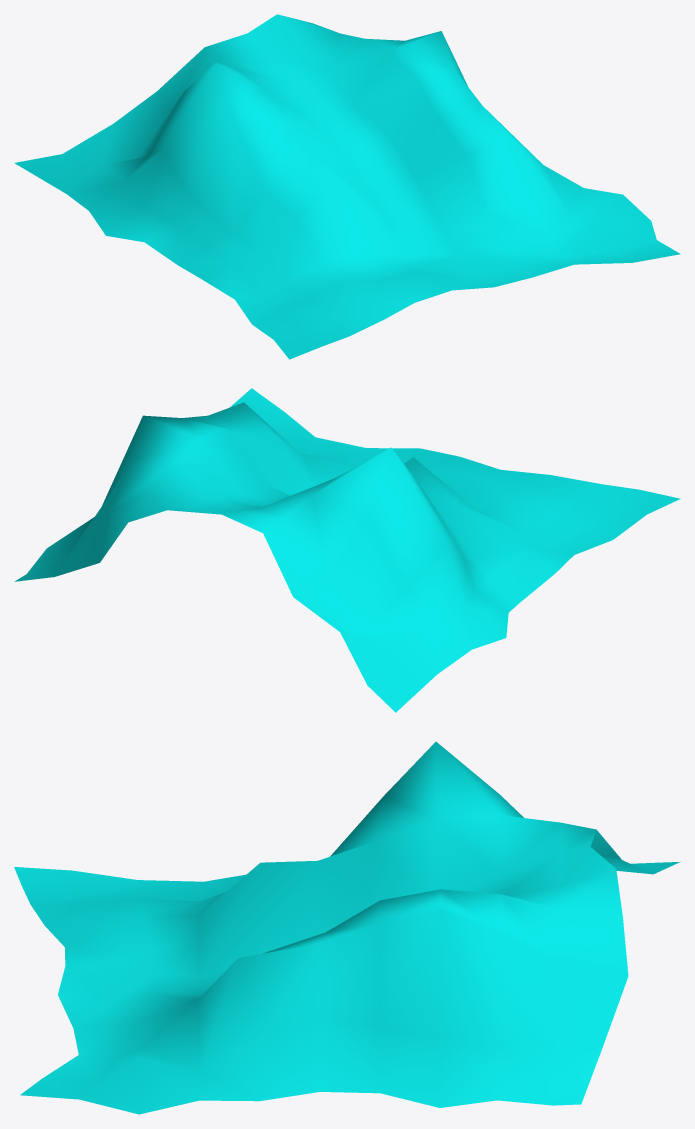
File: pose_20_baby_2016_blanket.fbx
3 views of the same model, one above another, from view 1: azimuth 30°, elevation 25°; view 2: azimuth 150°, elevation 25°; view 3: azimuth 270°, elevation 25° (orthographic). The views are drawn at different scales.
Visible parts, largest first — view 1: pPlane1; view 2: pPlane1; view 3: pPlane1.
Boxes of the visible parts, x1=… form: pPlane1: x1=14, y1=14, x2=680, y2=359; pPlane1: x1=14, y1=388, x2=680, y2=712; pPlane1: x1=14, y1=741, x2=680, y2=1114.
Size of the model in its own units: 4.33 by 1.51 by 4.77.
